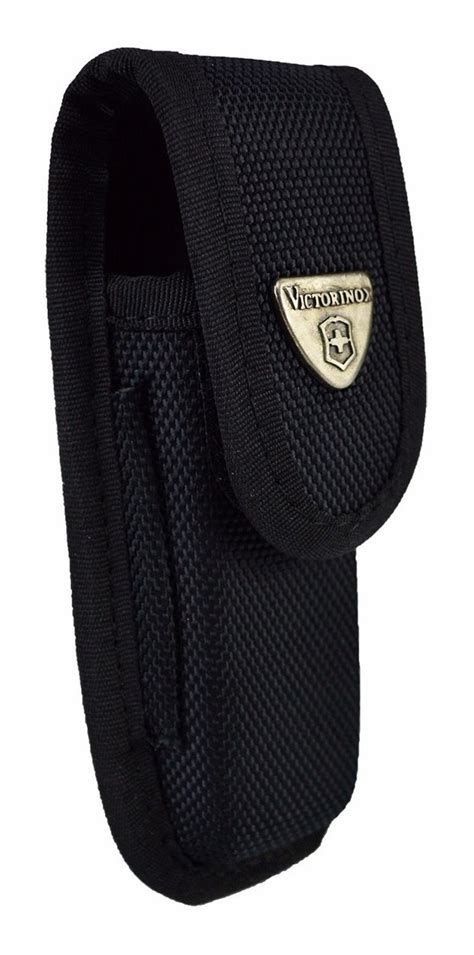nylon: (44, 49, 426, 906)
